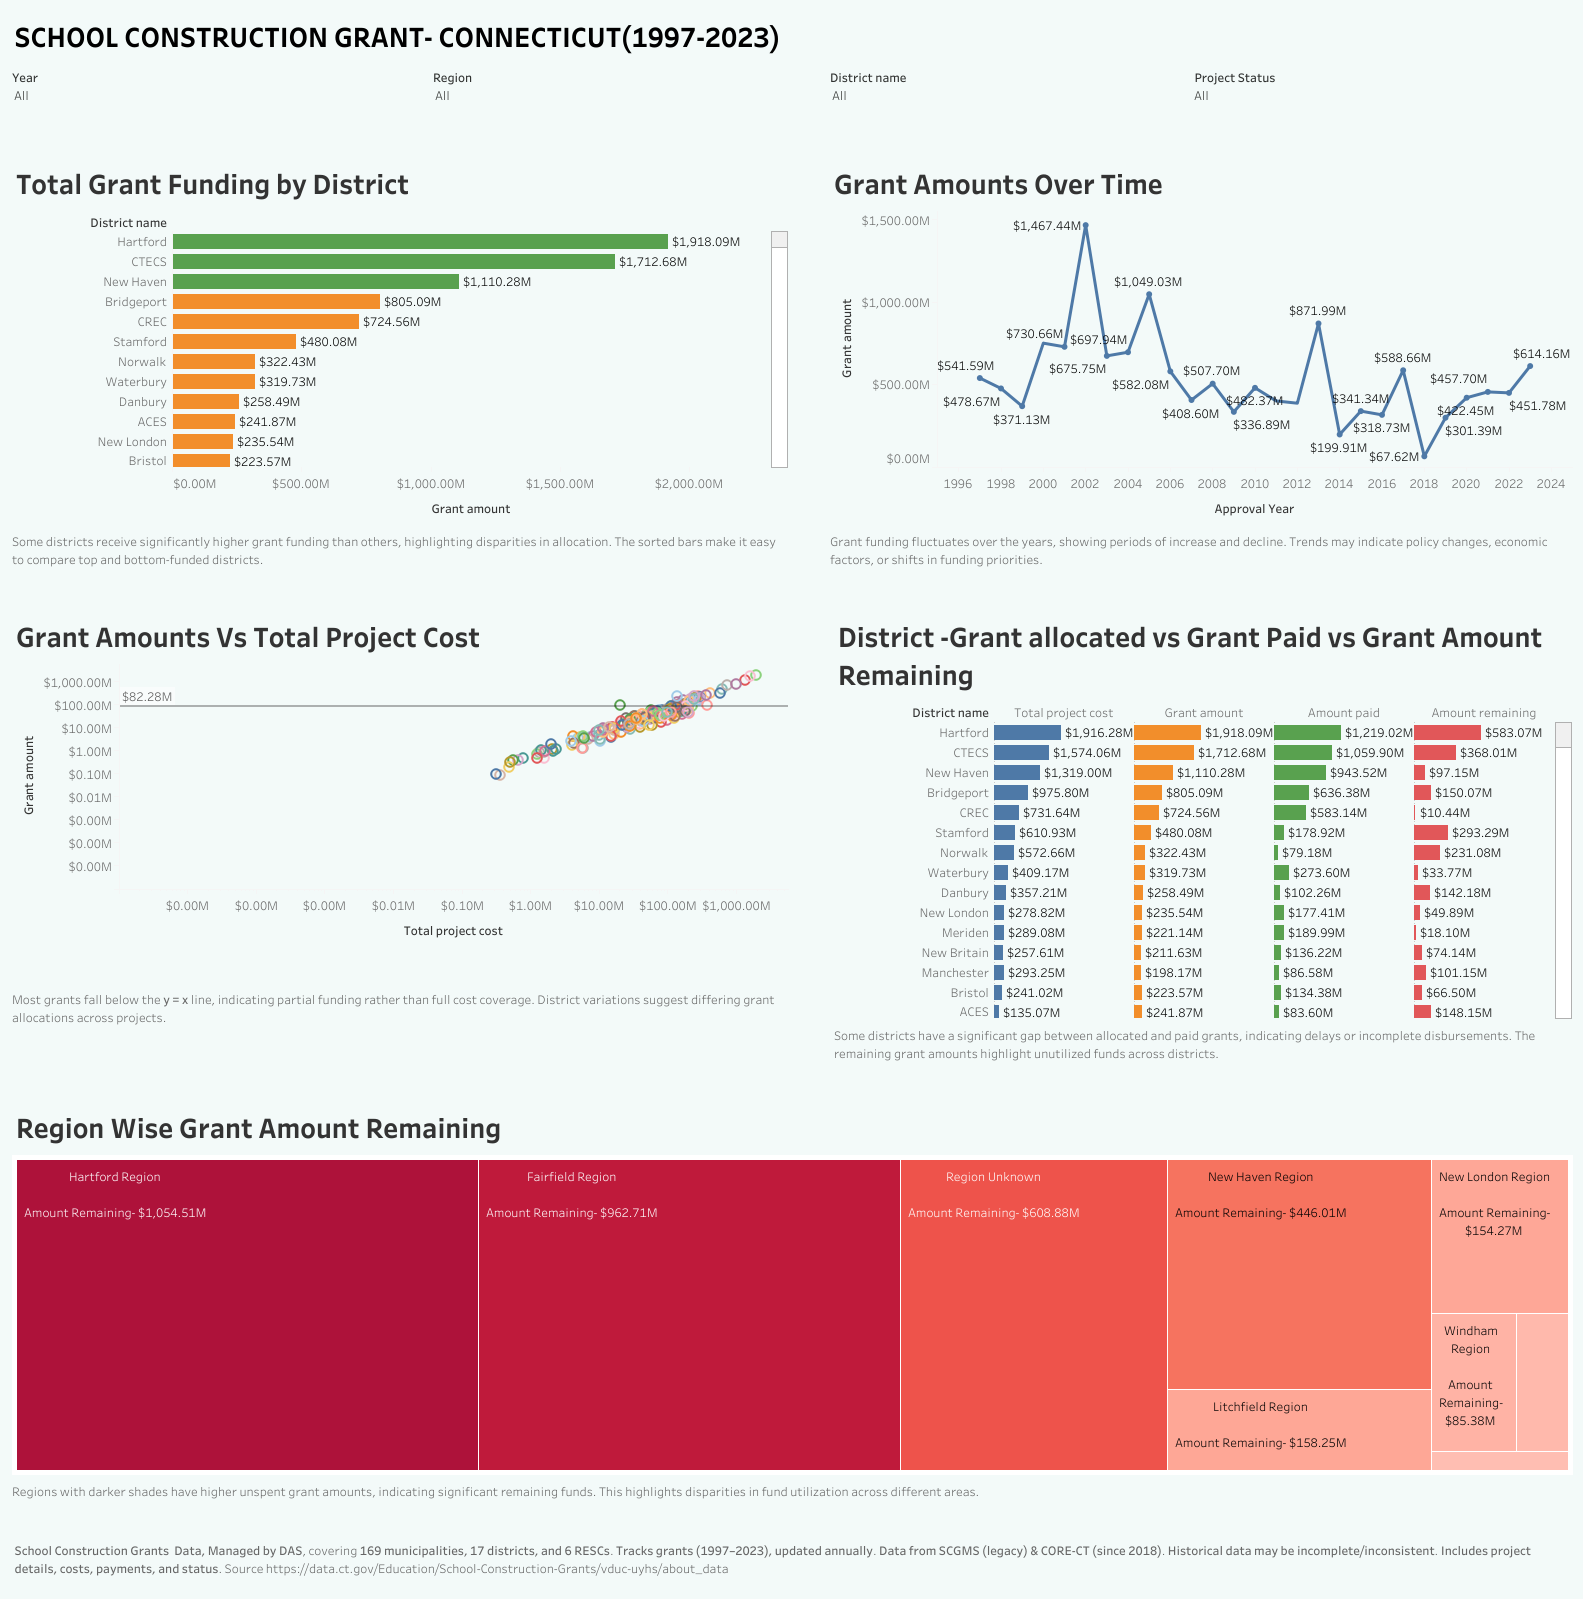

This screenshot's page, from the dashboard's own definition file:
{"tool":"tableau","page":{"name":"Dashboard 1","canvas":[1000,1000],"units":"permille","ordinal":0},"visuals":[{"type":"text","box":[5,5,989.9,34.7]},{"type":"filter","title":"Sheet 1","param":"[federated.0yyzf0s0p6epb112j6mno1fa1rtj].[none:Approval Year (copy)_105559106956","box":[5,39.7,265.8,56.7]},{"type":"filter","title":"Sheet 1","param":"[federated.0yyzf0s0p6epb112j6mno1fa1rtj].[none:Region:nk]","box":[270.8,39.7,250.6,56.7]},{"type":"filter","title":"Sheet 1","param":"[federated.0yyzf0s0p6epb112j6mno1fa1rtj].[none:District name:nk]","box":[521.5,39.7,228.5,56.7]},{"type":"filter","title":"Sheet 1","param":"[federated.0yyzf0s0p6epb112j6mno1fa1rtj].[Project status (group)]","box":[750,39.7,245,56.7]},{"type":"worksheet","title":"Sheet 1","mark":"Automatic","rows":["District name"],"cols":["Grant amount"],"box":[5,96.4,494.9,261.1]},{"type":"worksheet","title":"Sheet 2","mark":"Automatic","rows":["Grant amount"],"cols":["Approval Year"],"box":[521.5,96.4,473.5,261.1]},{"type":"worksheet","title":"Sheet 2 (2)","mark":"Automatic","rows":["Grant amount"],"cols":["Total project cost"],"box":[5,379.4,494.9,286.9]},{"type":"worksheet","title":"Sheet 4","mark":"Automatic","rows":["District name"],"box":[524,379.4,471,286.9]},{"type":"worksheet","title":"Sheet 5","mark":"Automatic","box":[5,686.2,989.9,254.4]},{"type":"text","box":[5,960.6,989.9,27.5]}]}

Visuals, with their boxes on the dashboard's canvas, which has no fixed pixel size, in thousandths of its width and height (x1, y1, x2, y2). These are canvas units, not pixel positions in the 1583x1599 screenshot, which may show the page scaled, cropped or inside an application window:
text: region(5, 5, 995, 40)
"Sheet 1" filter: region(5, 40, 271, 96)
"Sheet 1" filter: region(271, 40, 521, 96)
"Sheet 1" filter: region(522, 40, 750, 96)
"Sheet 1" filter: region(750, 40, 995, 96)
"Sheet 1" worksheet: region(5, 96, 500, 358)
"Sheet 2" worksheet: region(522, 96, 995, 358)
"Sheet 2 (2)" worksheet: region(5, 379, 500, 666)
"Sheet 4" worksheet: region(524, 379, 995, 666)
"Sheet 5" worksheet: region(5, 686, 995, 941)
text: region(5, 961, 995, 988)
